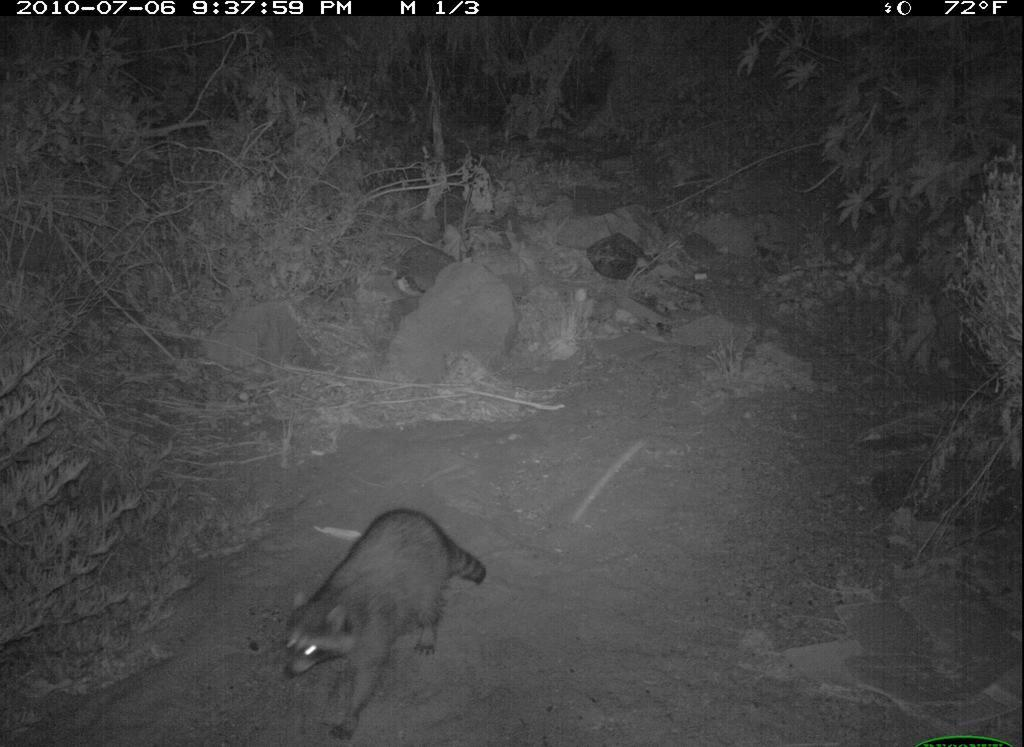raccoon: (274, 502, 491, 745)
